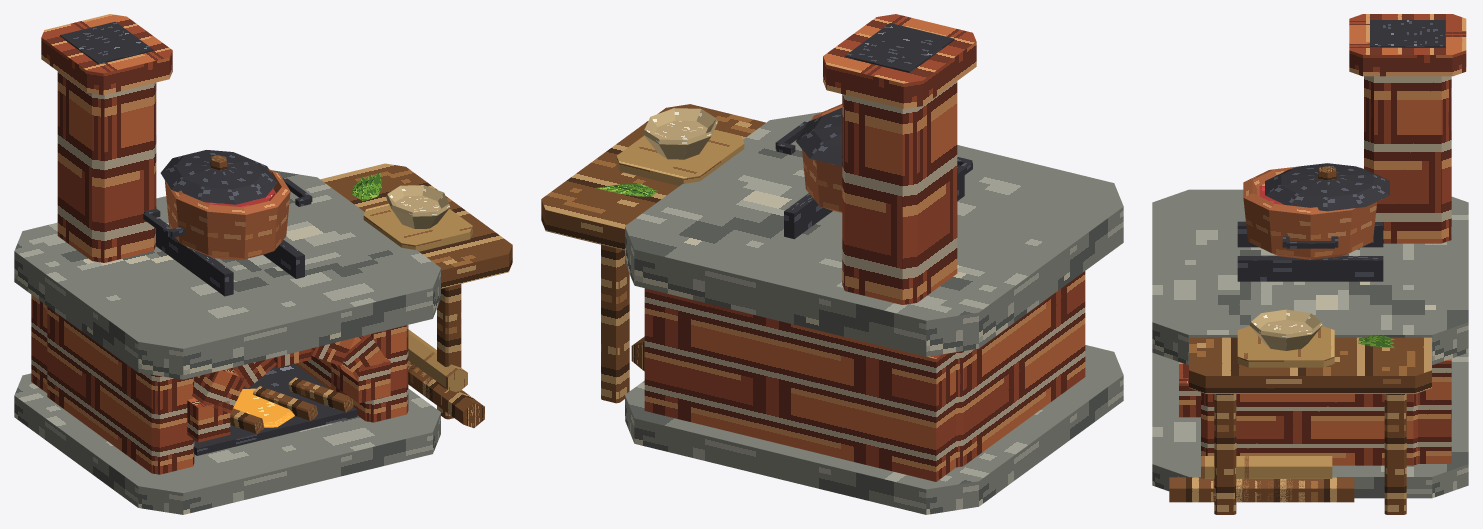
The model's file is outdoor_stove.glb.
3 views of the same model, side by side, from view 1: azimuth 30°, elevation 25°; view 2: azimuth 150°, elevation 25°; view 3: azimuth 270°, elevation 25° (orthographic). The views are drawn at different scales.
Visible parts, largest first — view 1: outdoor_stove; view 2: outdoor_stove; view 3: outdoor_stove.
Part boxes in pixels (x1,y1,x2,y2): outdoor_stove: (14, 14, 512, 514); outdoor_stove: (541, 14, 1123, 514); outdoor_stove: (1152, 14, 1468, 514).
Size of the model in its own units: 22 by 20 by 16.
Materials: 2 (2 with a texture image).
